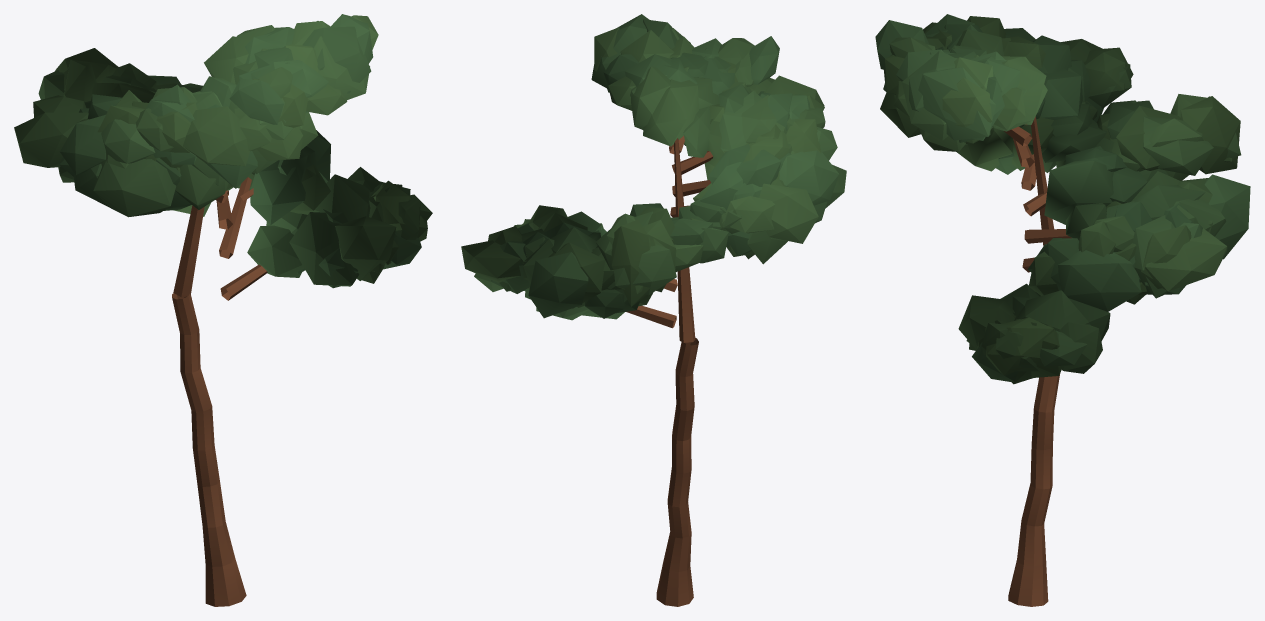
Rendered from tree_pine.glb.
The picture shows the model from 3 angles, left to right: view 1: azimuth 30°, elevation 25°; view 2: azimuth 150°, elevation 25°; view 3: azimuth 270°, elevation 25°; orthographic projection. The views are drawn at different scales.
Visible parts, largest first — view 1: tree_pine; view 2: tree_pine; view 3: tree_pine.
Part boxes in pixels (x1,y1,x2,y2): tree_pine: (14,14,432,606); tree_pine: (461,14,846,606); tree_pine: (875,14,1250,606).
Bounding box in the file's own units: 6.87 × 10.14 × 5.97.
